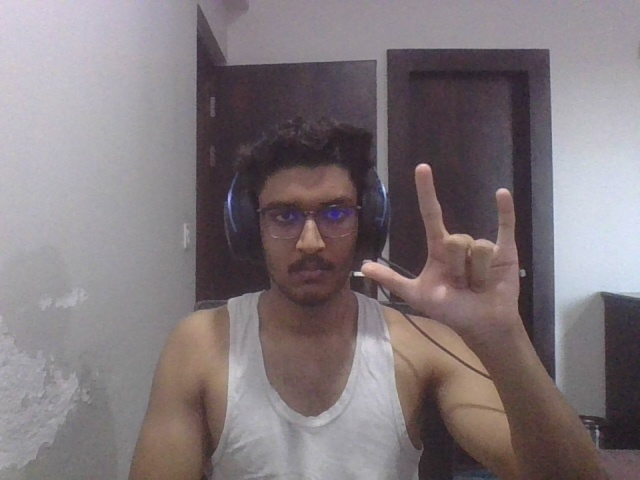I love You: (357, 161, 532, 331)
